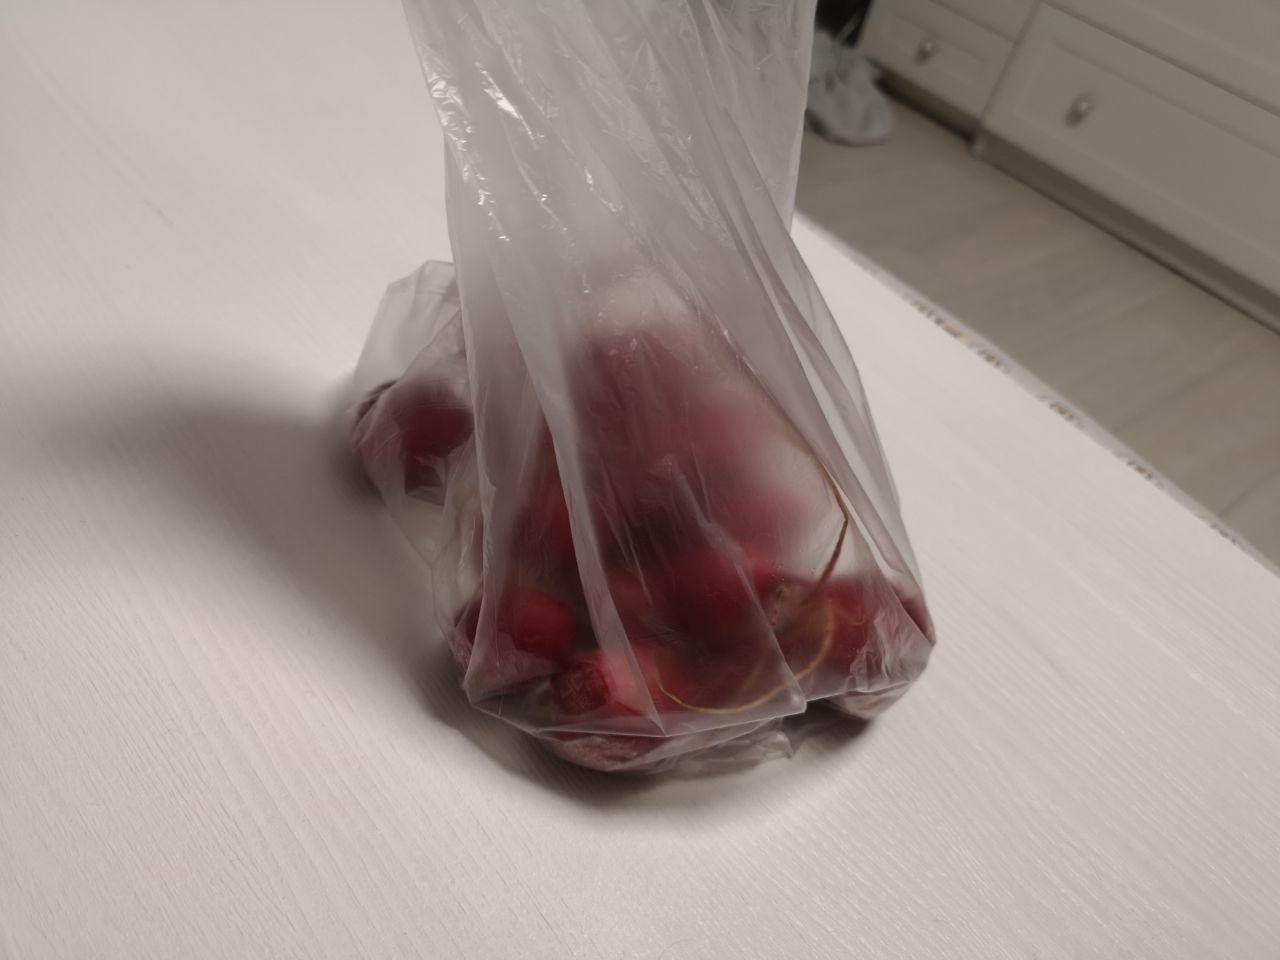redish: (321, 233, 963, 819)
